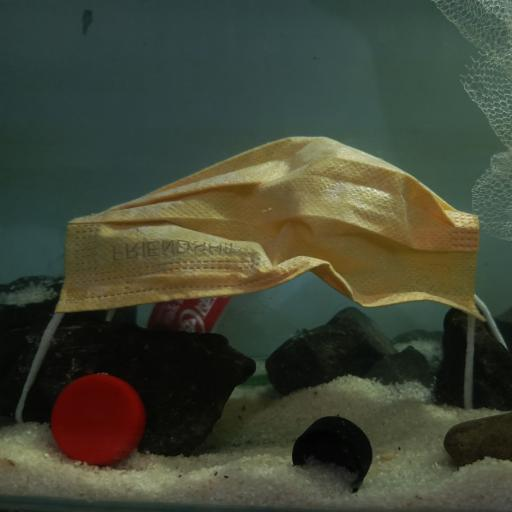bottle_cap: (48, 368, 146, 469), (290, 413, 374, 488)
mask: (50, 132, 486, 319)
net: (461, 86, 512, 244)
plastic_bottle: (139, 296, 312, 361)
